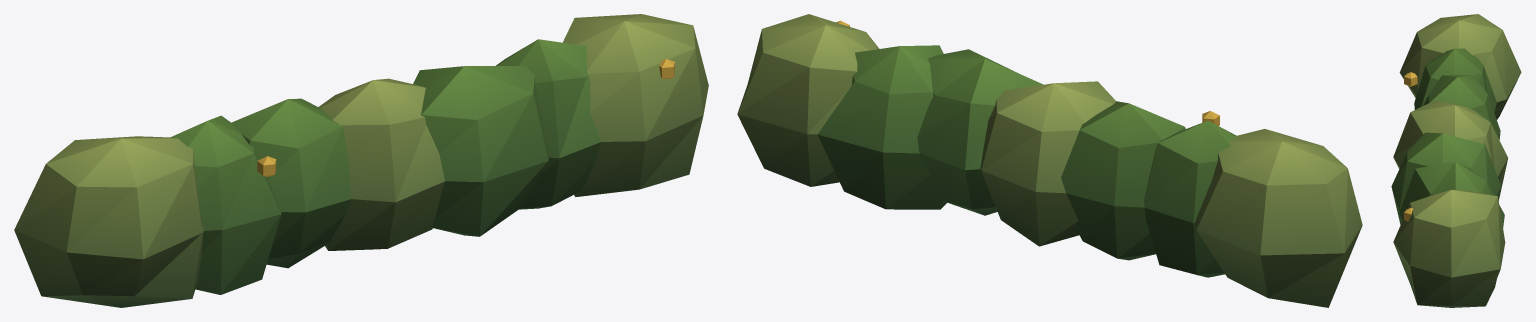
The model's file is hedge_4.glb.
3 views of the same model, side by side, from view 1: azimuth 30°, elevation 25°; view 2: azimuth 150°, elevation 25°; view 3: azimuth 270°, elevation 25° (orthographic). The views are drawn at different scales.
Visible parts, largest first — view 1: hedge_4; view 2: hedge_4; view 3: hedge_4.
Part boxes in pixels (x1=…): hedge_4: x1=14, y1=14, x2=708, y2=307; hedge_4: x1=737, y1=14, x2=1362, y2=307; hedge_4: x1=1391, y1=14, x2=1521, y2=307.
Bounding box in the file's own units: 4.61 × 1.12 × 1.11.
